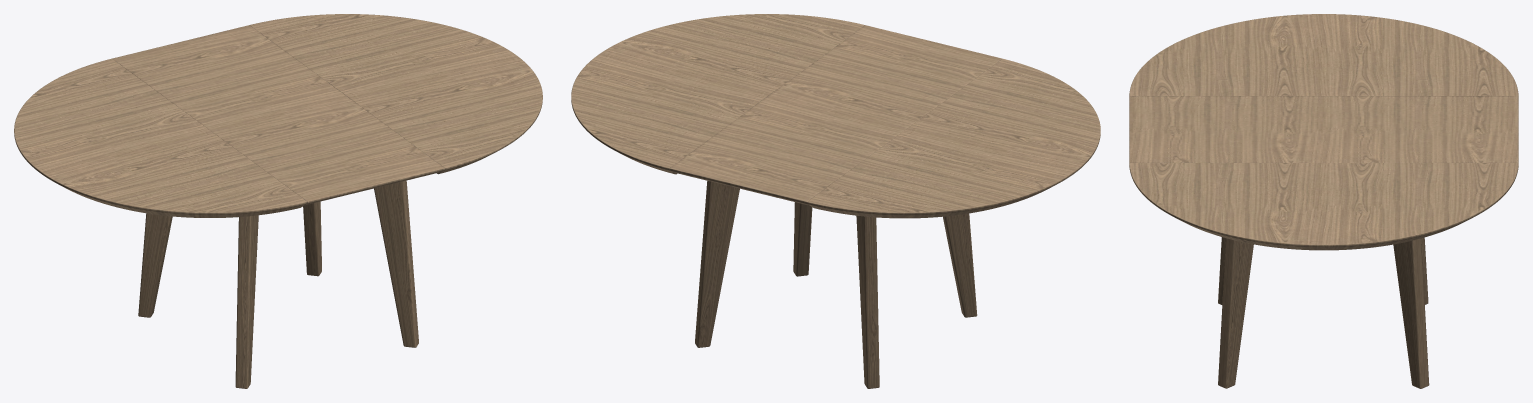
Rendered from urban-kruglyj_l115.glb.
The picture shows the model from 3 angles, left to right: view 1: azimuth 30°, elevation 25°; view 2: azimuth 150°, elevation 25°; view 3: azimuth 270°, elevation 25°; orthographic projection.
Visible parts, largest first — view 1: urban-kruglyj_L115; view 2: urban-kruglyj_L115; view 3: urban-kruglyj_L115.
Part boxes in pixels (box(x1,y1,x2,y2)): urban-kruglyj_L115: box(14, 14, 542, 388); urban-kruglyj_L115: box(571, 14, 1100, 388); urban-kruglyj_L115: box(1129, 14, 1518, 388).
Size of the model in its own units: 1.75 by 0.7598 by 1.25.
2 materials, 2 textured.
